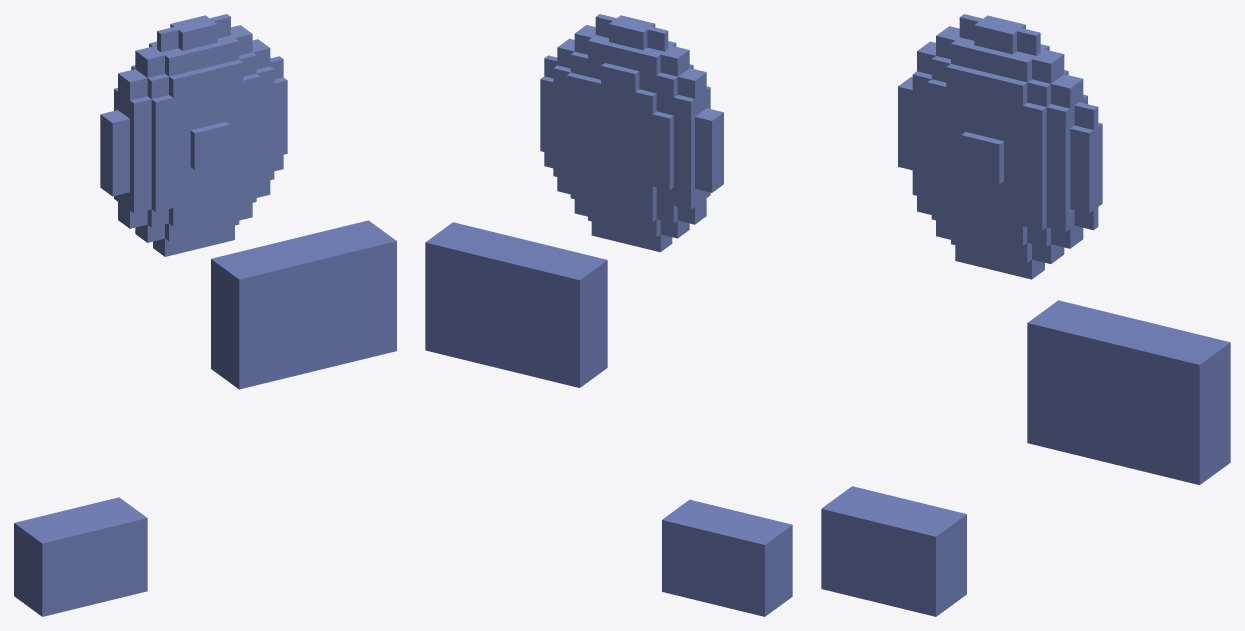
3 views of the same model, side by side, from view 1: azimuth 30°, elevation 25°; view 2: azimuth 150°, elevation 25°; view 3: azimuth 330°, elevation 25° (orthographic). The views are drawn at different scales.
Visible parts, largest first — view 1: world; view 2: world; view 3: world.
Part boxes in pixels (x1,y1,x2,y2): world: (14, 14, 396, 616); world: (425, 14, 792, 616); world: (821, 14, 1230, 616).
Size of the model in its own units: 3.12 by 4.69 by 0.625.
